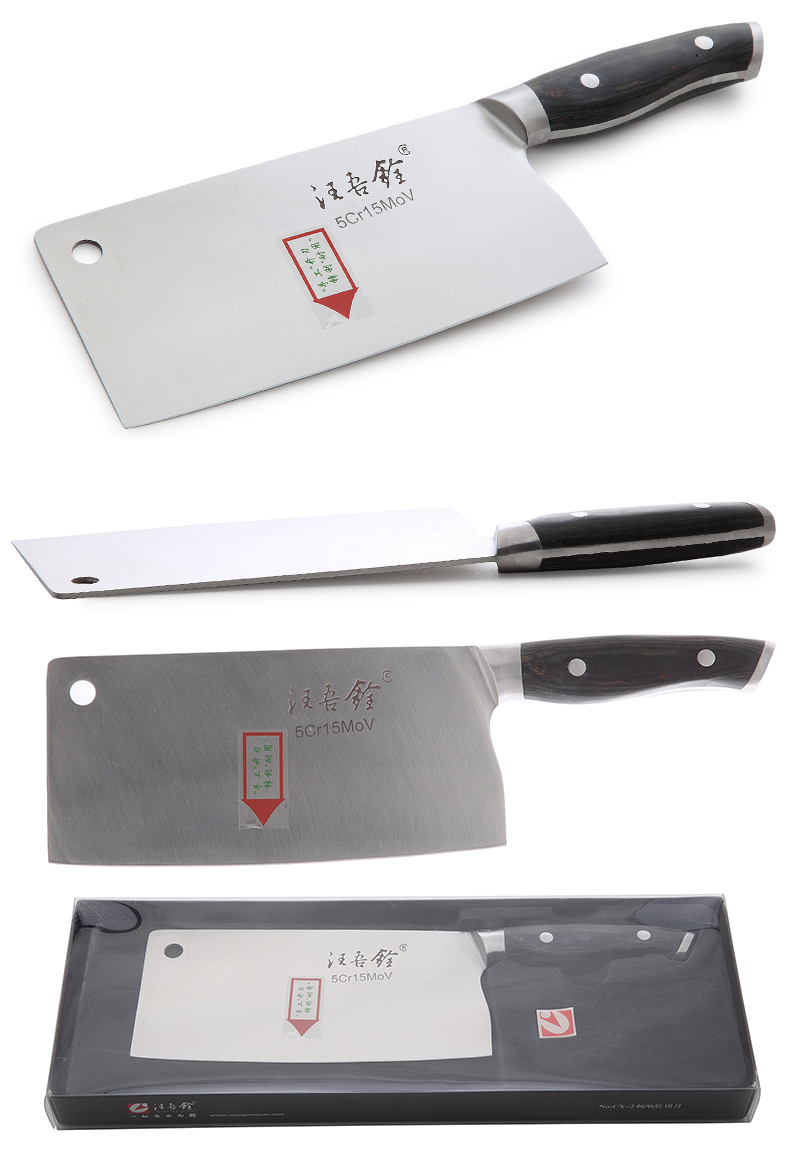knief: (25, 78, 770, 423), (45, 616, 772, 872)
